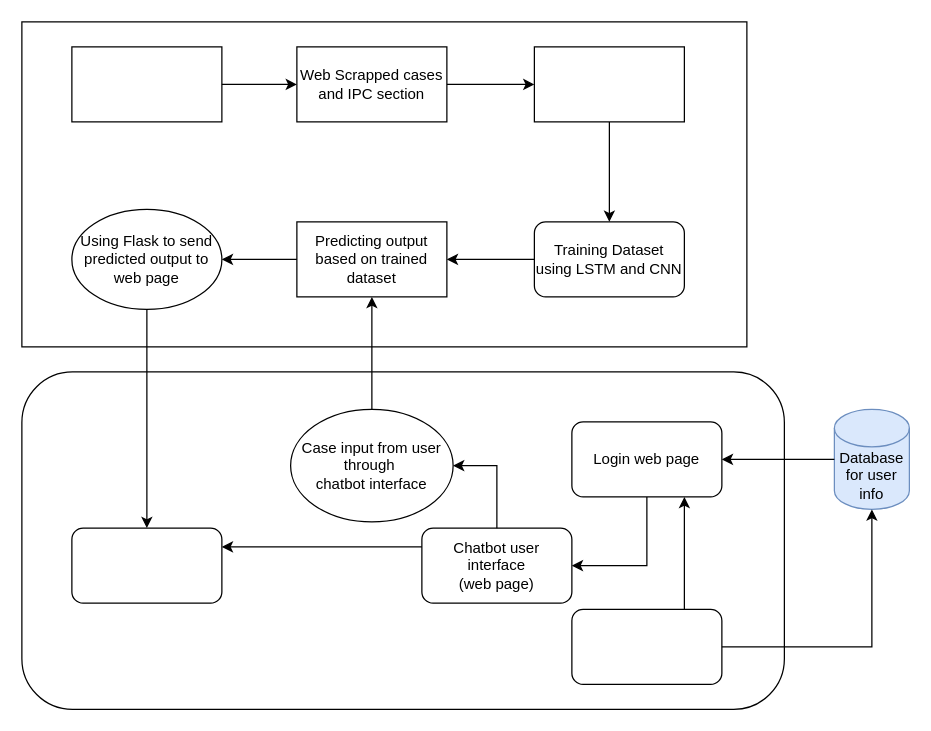
Image size: 931x731. Some labels were removed from this diagram. The centre of each missing label's shape, as x and y in pixels:
Data cleaning and Data augmentation: point (608, 84)
IPC sections output for user's legal case: point (146, 565)
Official Legal websites: point (146, 84)
Registration web page: point (646, 646)
